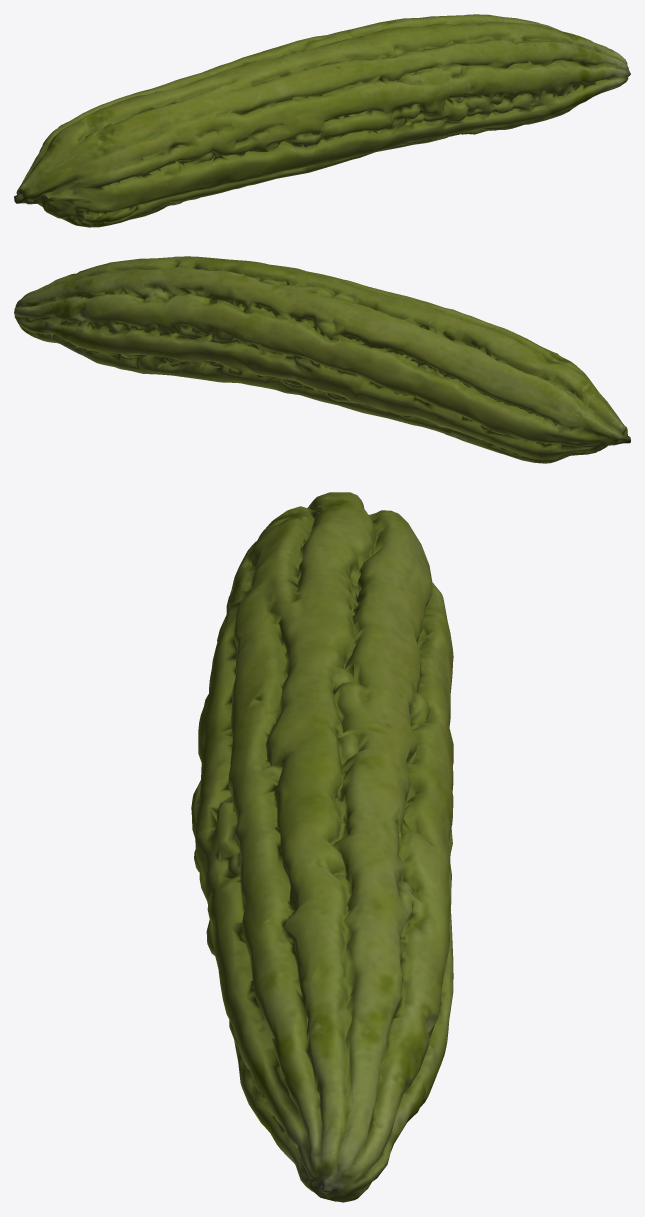
File: karela.glb
The picture shows the model from 3 angles, top to bottom: view 1: azimuth 30°, elevation 25°; view 2: azimuth 150°, elevation 25°; view 3: azimuth 270°, elevation 25°; orthographic projection. The views are drawn at different scales.
Parts seen in each view (by area): view 1: karela; view 2: karela; view 3: karela.
Part boxes in pixels (x1,y1,x2,y2): karela: (14, 14, 630, 227); karela: (14, 256, 630, 463); karela: (191, 492, 453, 1202).
Size of the model in its own units: 0.2 by 0.0394 by 0.037.
Materials: 1 (1 with a texture image).
